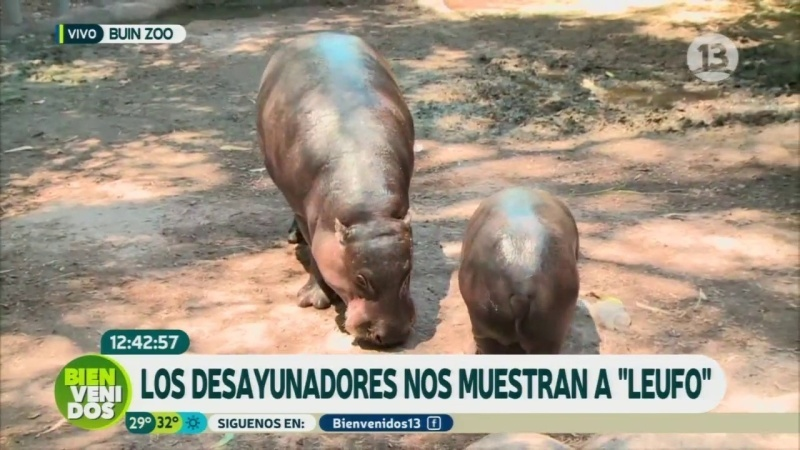hipopotamo: (241, 27, 447, 353), (449, 179, 597, 354)
